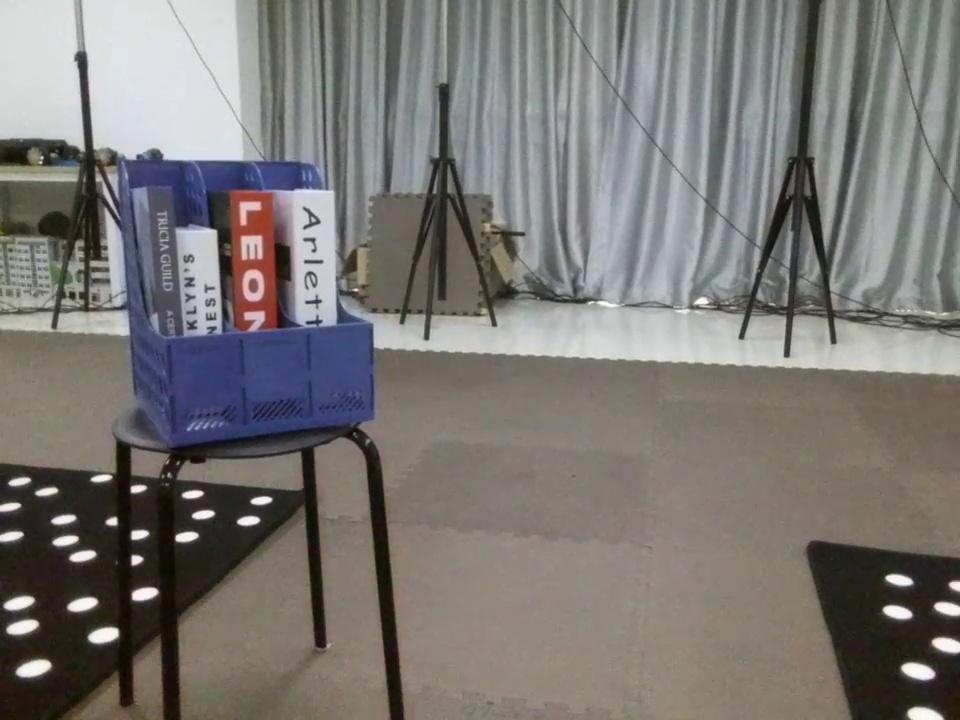files: (106, 152, 385, 449)
